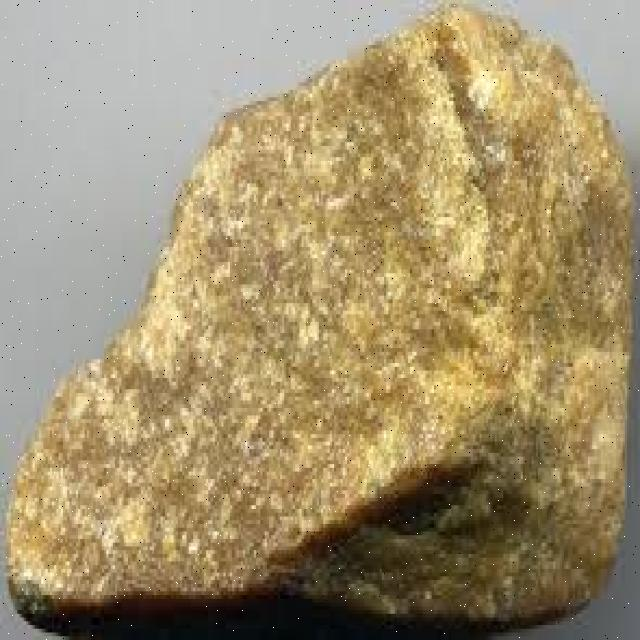Metamorphic: (2, 8, 636, 632)
